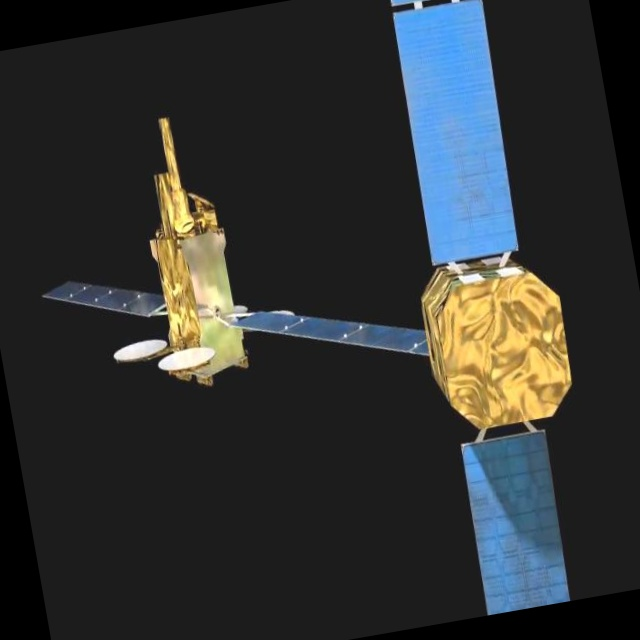medium_debris: (0, 0, 631, 640)
